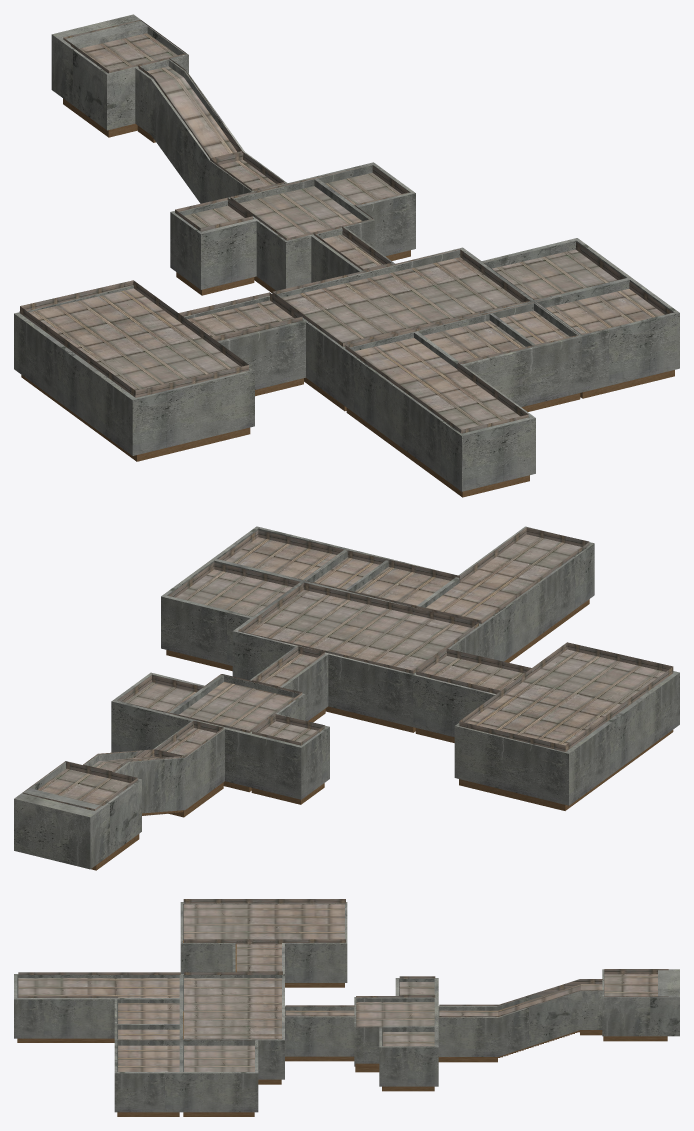
The model's file is LEVEL1.1.fbx.
The picture shows the model from 3 angles, top to bottom: view 1: azimuth 30°, elevation 25°; view 2: azimuth 150°, elevation 25°; view 3: azimuth 270°, elevation 25°; orthographic projection. The views are drawn at different scales.
Visible parts, largest first — view 1: Object001, tepa, DEVOR.002; view 2: Object001, tepa, DEVOR.002; view 3: Object001, tepa, DEVOR.002.
Boxes of the visible parts, x1,y1,x2,y2 form: Object001: (14, 14, 679, 491); tepa: (19, 20, 672, 433); DEVOR.002: (21, 98, 674, 497); Object001: (14, 526, 679, 869); tepa: (22, 527, 673, 810); DEVOR.002: (91, 599, 673, 870); Object001: (14, 902, 679, 1112); tepa: (18, 899, 668, 1071); DEVOR.002: (17, 940, 667, 1116).
Size of the model in its own units: 997 by 199 by 1639.
7 materials, 6 textured.
